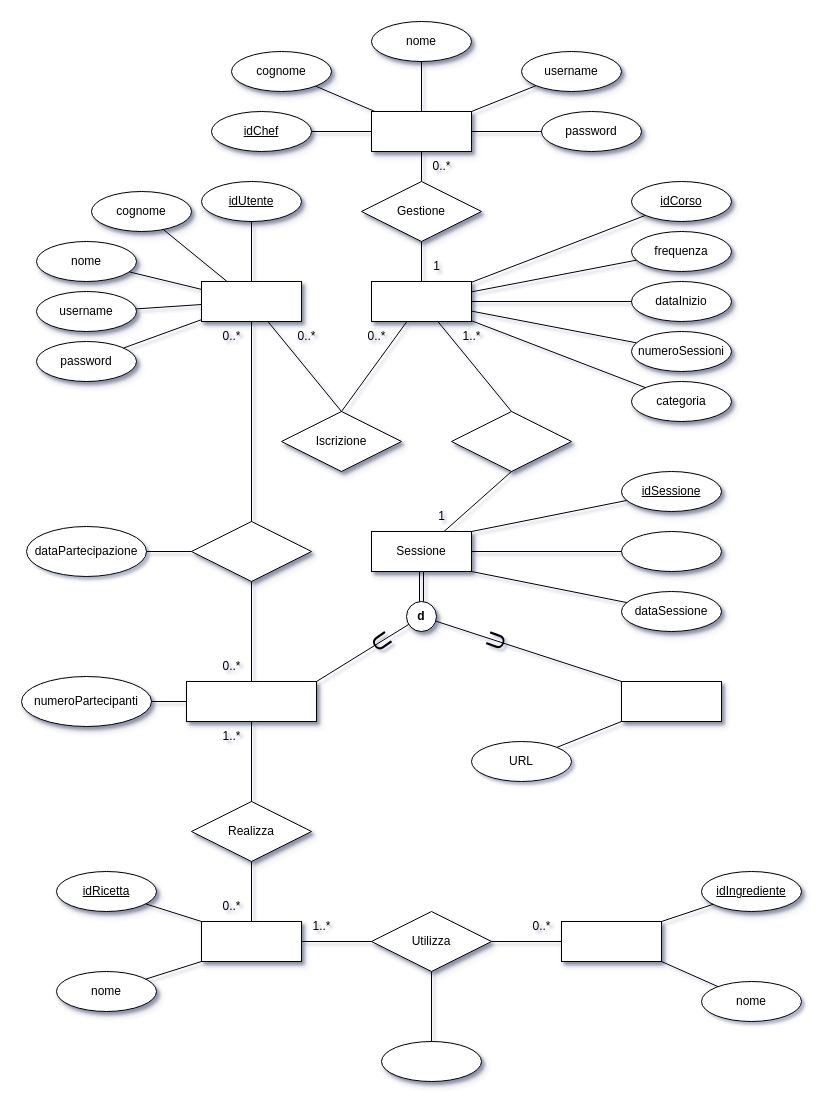
The diagram is 831 pixels wide and 1112 high, and some of its shapes have lost their labels. Here are the shapes that lost their labels. From the top down, the centre of each, then its label:
point (422, 132): Chef
point (252, 302): Utente
point (422, 302): Corso
point (512, 442): Suddivisione
point (252, 552): Partecipazione
point (672, 552): numeroSessione
point (252, 702): SessioneInPresenza
point (672, 702): SessioneOnline
point (252, 942): Ricetta
point (612, 942): Ingrediente
point (432, 1062): quantitá
